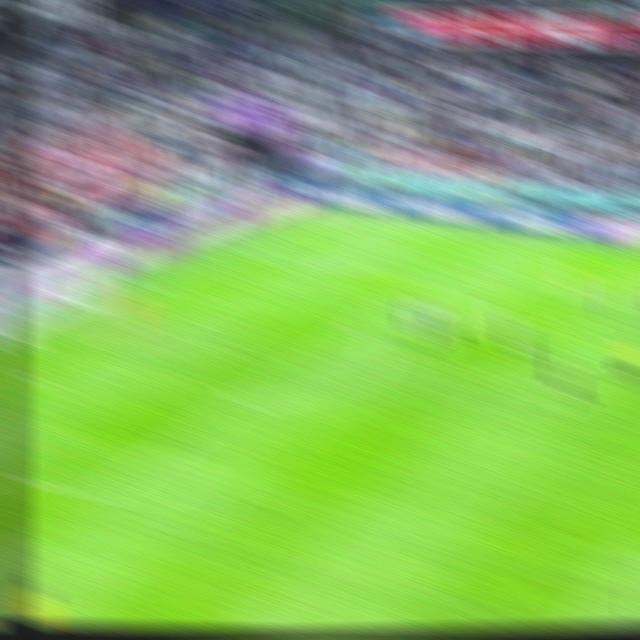bigarea_bottom_inner: (81, 481, 115, 509)
bigarea_top_inner: (420, 268, 452, 292)
bigarea_top_outter: (217, 239, 247, 261)
bottom_arc_area_intersection: (228, 388, 261, 413)
corner: (298, 205, 330, 226)
smallarea_bottom_inner: (28, 364, 61, 394)
smallarea_top_inner: (202, 287, 232, 308)
smallarea_top_outter: (134, 275, 164, 298)
top_arc_area_intersection: (343, 314, 376, 341)
